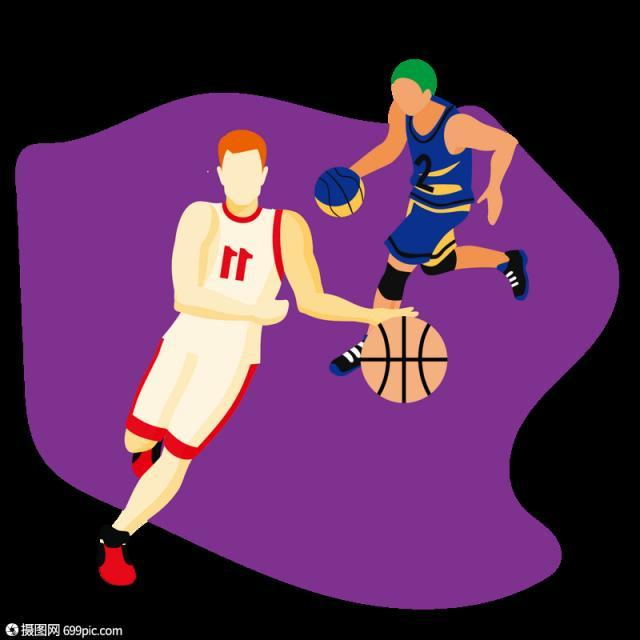rim: (359, 316, 449, 404), (310, 163, 370, 220)
